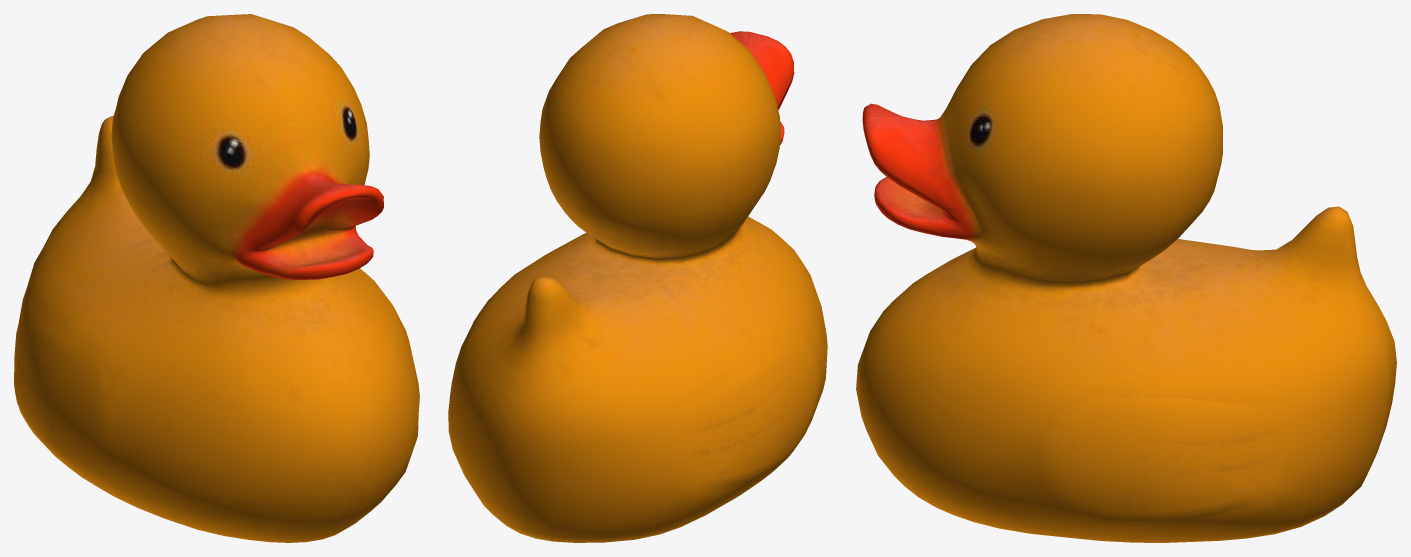
Rendered from rubber_duck_toy.glb.
The picture shows the model from 3 angles, left to right: view 1: azimuth 30°, elevation 25°; view 2: azimuth 150°, elevation 25°; view 3: azimuth 270°, elevation 25°; orthographic projection. The views are drawn at different scales.
Visible parts, largest first — view 1: rubber_duck_toy; view 2: rubber_duck_toy; view 3: rubber_duck_toy.
Boxes of the visible parts, bbox=[...] form: rubber_duck_toy: bbox=[14, 14, 419, 542]; rubber_duck_toy: bbox=[448, 14, 827, 542]; rubber_duck_toy: bbox=[856, 14, 1396, 542].
Size of the model in its own units: 0.2135 by 0.2855 by 0.3.
1 material, 1 textured.
